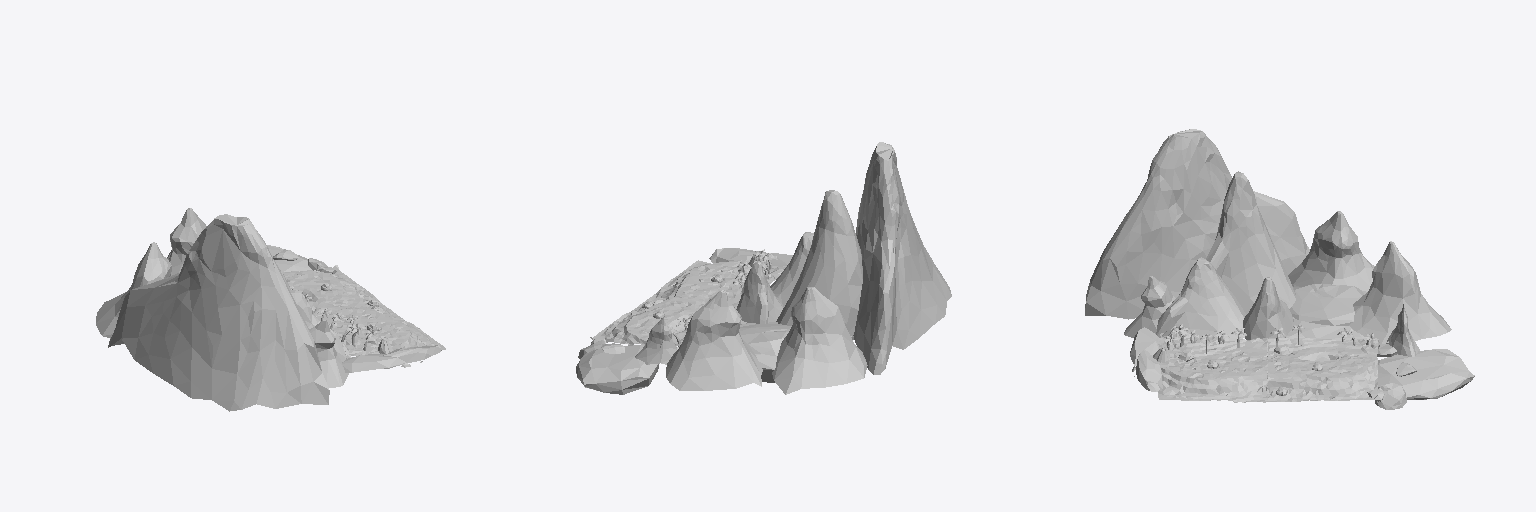
The model's file is coast.obj.
3 renders of one model, left to right at view 1: azimuth 30°, elevation 25°; view 2: azimuth 150°, elevation 25°; view 3: azimuth 270°, elevation 25°, orthographic.
Parts seen in each view (by area): view 1: Mountain_B; view 2: Mountain_B; view 3: Mountain_B.
Boxes of the visible parts, x1,y1,x2,y2 form: Mountain_B: [96, 208, 445, 411]; Mountain_B: [576, 142, 951, 394]; Mountain_B: [1085, 129, 1474, 409].
Size of the model in its own units: 550 by 360 by 705.